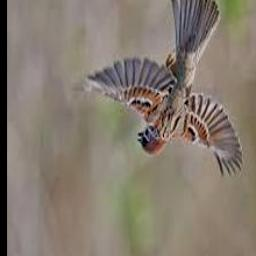Sparrow: (76, 0, 243, 179)
